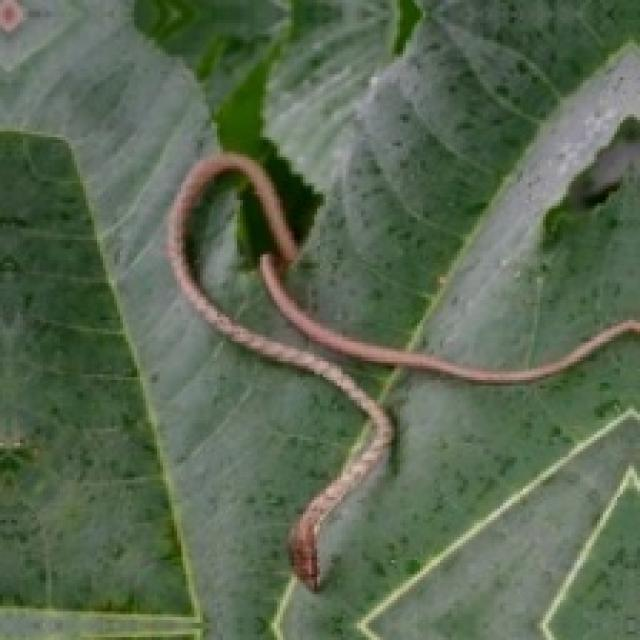philippine whip snake: (166, 154, 637, 589)
